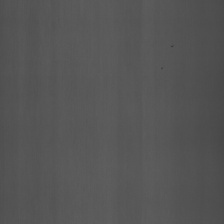inclusion: (168, 38, 176, 51), (159, 55, 165, 72)
